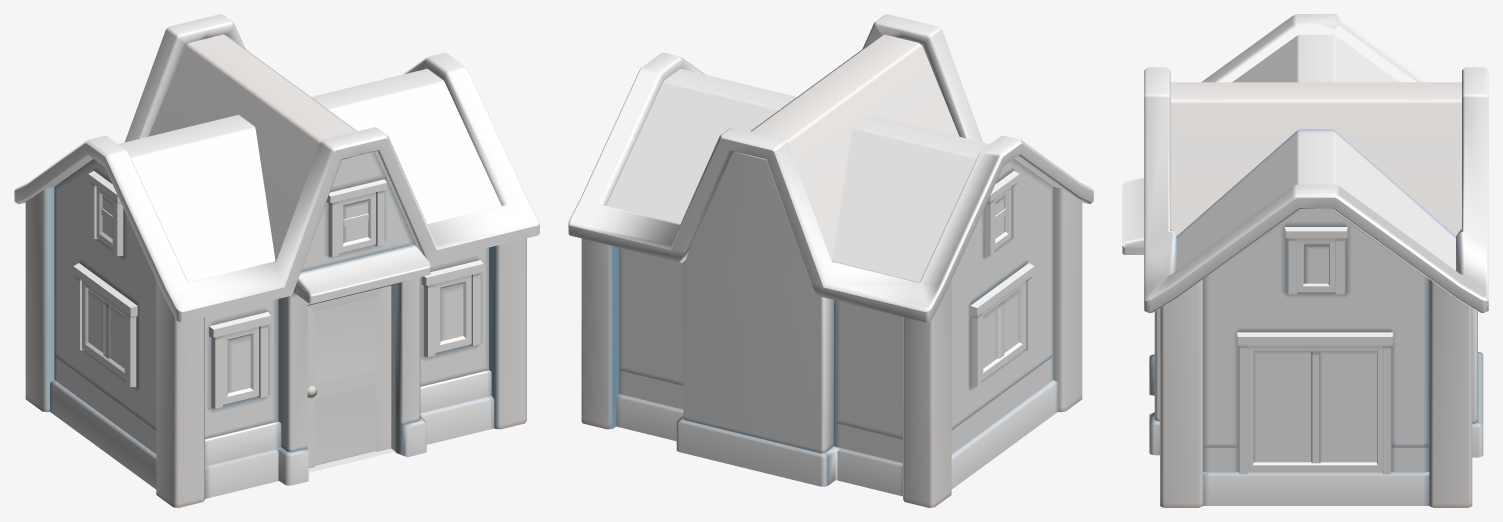
File: vermilion-house-a.glb
3 views of the same model, side by side, from view 1: azimuth 30°, elevation 25°; view 2: azimuth 150°, elevation 25°; view 3: azimuth 270°, elevation 25° (orthographic). The views are drawn at different scales.
Visible parts, largest first — view 1: vermilion-house-a; view 2: vermilion-house-a; view 3: vermilion-house-a.
Boxes of the visible parts, x1=… form: vermilion-house-a: x1=14, y1=14, x2=539, y2=507; vermilion-house-a: x1=568, y1=14, x2=1093, y2=507; vermilion-house-a: x1=1122, y1=14, x2=1488, y2=507.
Bounding box in the file's own units: 4 × 3.47 × 3.4.
